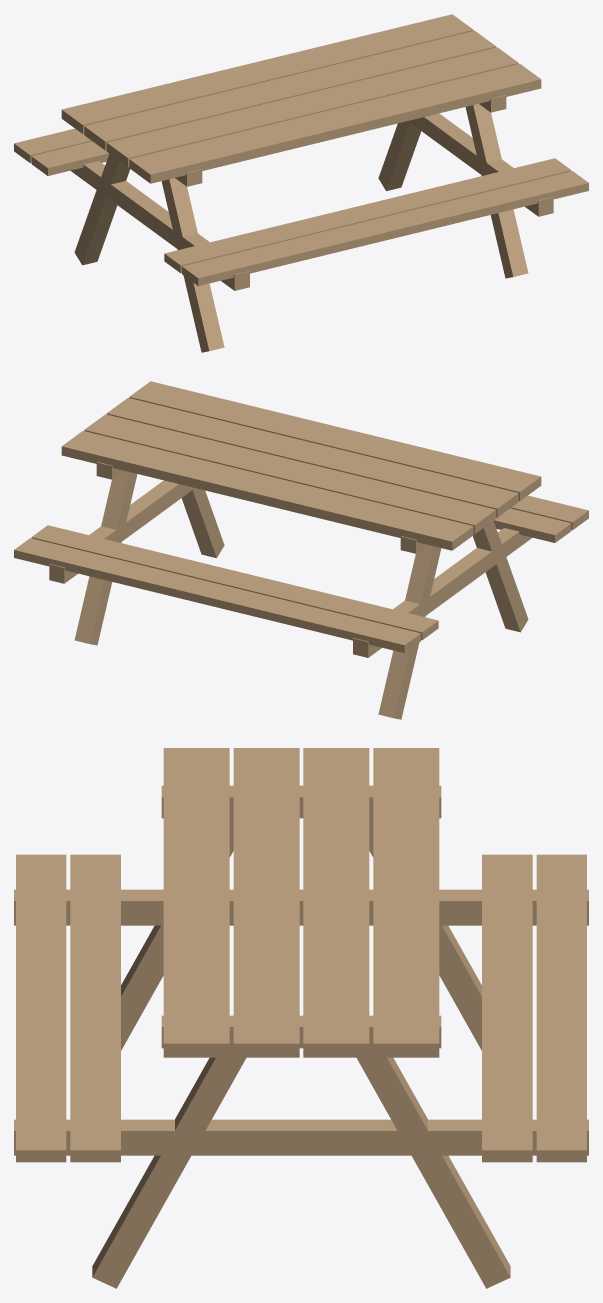
File: picnic.glb
3 views of the same model, one above another, from view 1: azimuth 30°, elevation 25°; view 2: azimuth 150°, elevation 25°; view 3: azimuth 270°, elevation 25° (orthographic). The views are drawn at different scales.
Parts seen in each view (by area): view 1: model; view 2: model; view 3: model.
Part boxes in pixels (x1=…): model: x1=14, y1=14, x2=588, y2=352; model: x1=14, y1=381, x2=588, y2=719; model: x1=14, y1=748, x2=588, y2=1288.
Bounding box in the file's own units: 1.8 × 0.7734 × 1.48.
